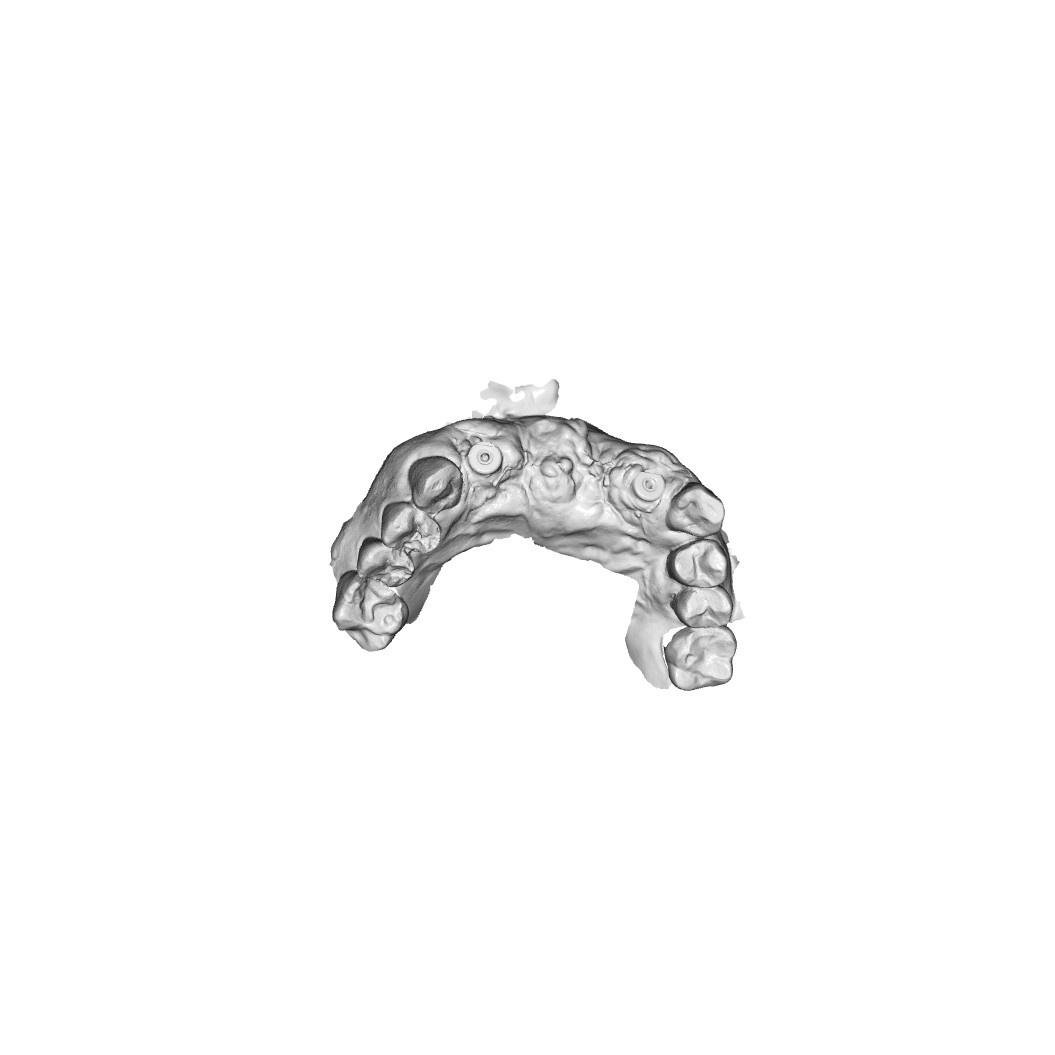canine: (667, 482, 729, 542), (406, 455, 464, 512)
implant: (625, 466, 663, 507), (468, 440, 505, 482)
molar: (329, 570, 412, 653), (662, 627, 737, 691)
premolar: (380, 503, 446, 565), (668, 536, 730, 591), (353, 536, 413, 591), (670, 584, 737, 631)
